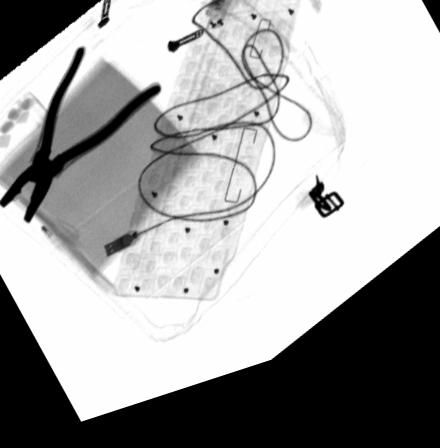Pliers: (0, 51, 163, 227)
